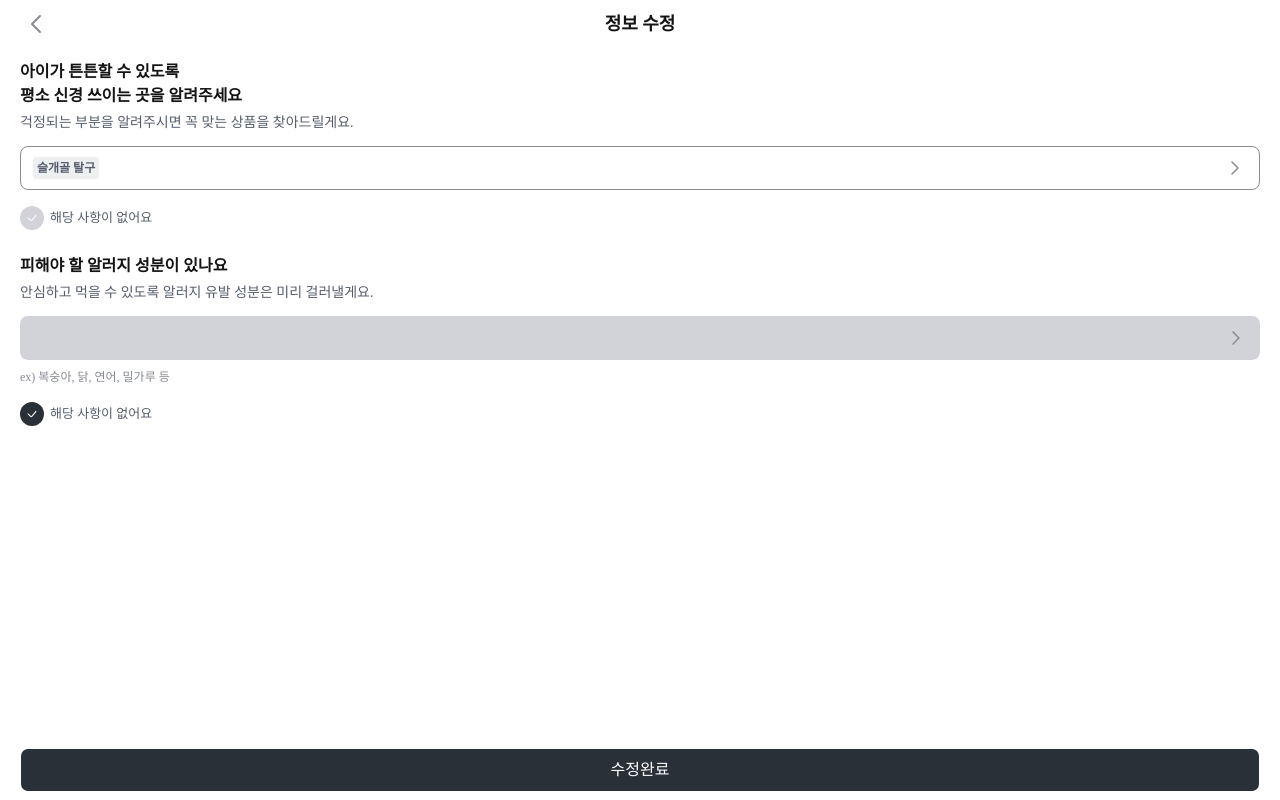
Test: 누르면 그 갈래의 시트가 열린다
This screenshot has width=1280, height=800.
Click the button with aria-label "걱정되는 질환". click: (66, 168)
box: [20, 146, 1260, 190]
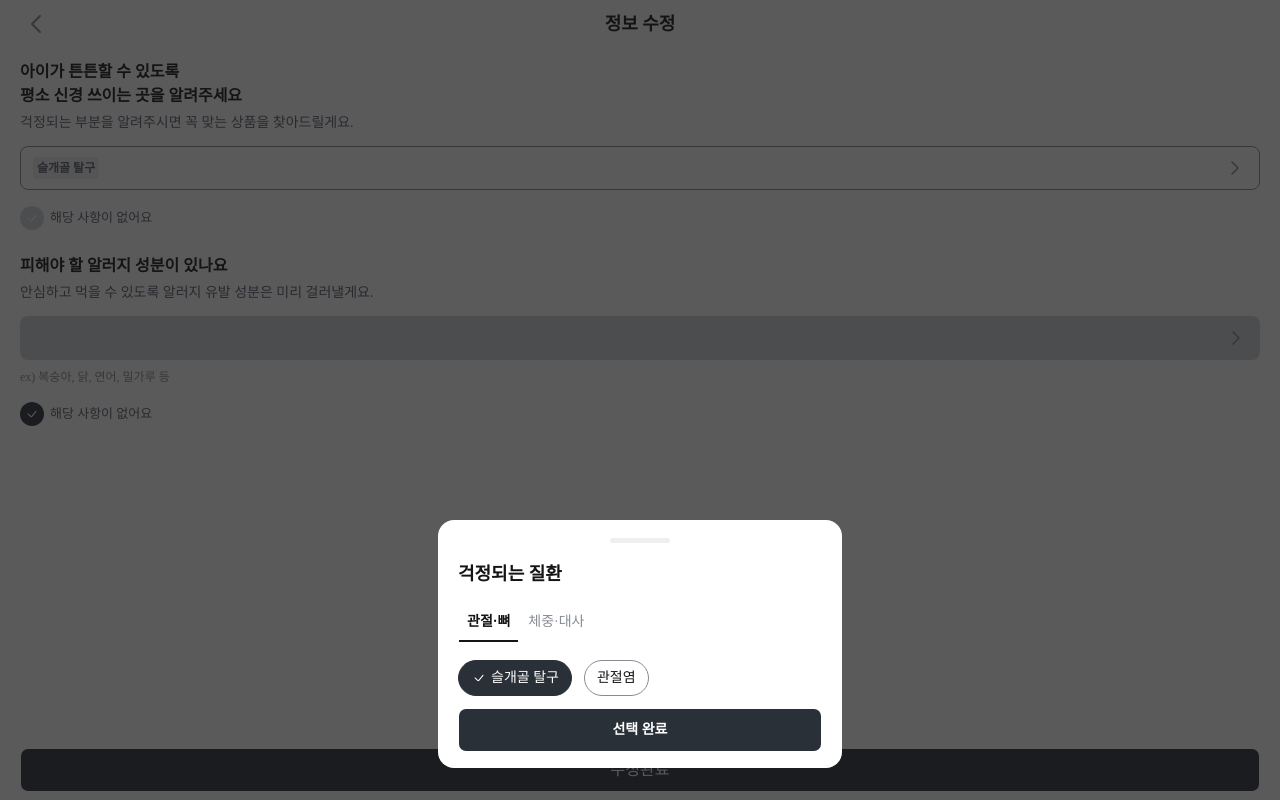
Expected: the tab "관절·뼈" is shown, [458, 606, 519, 638]
